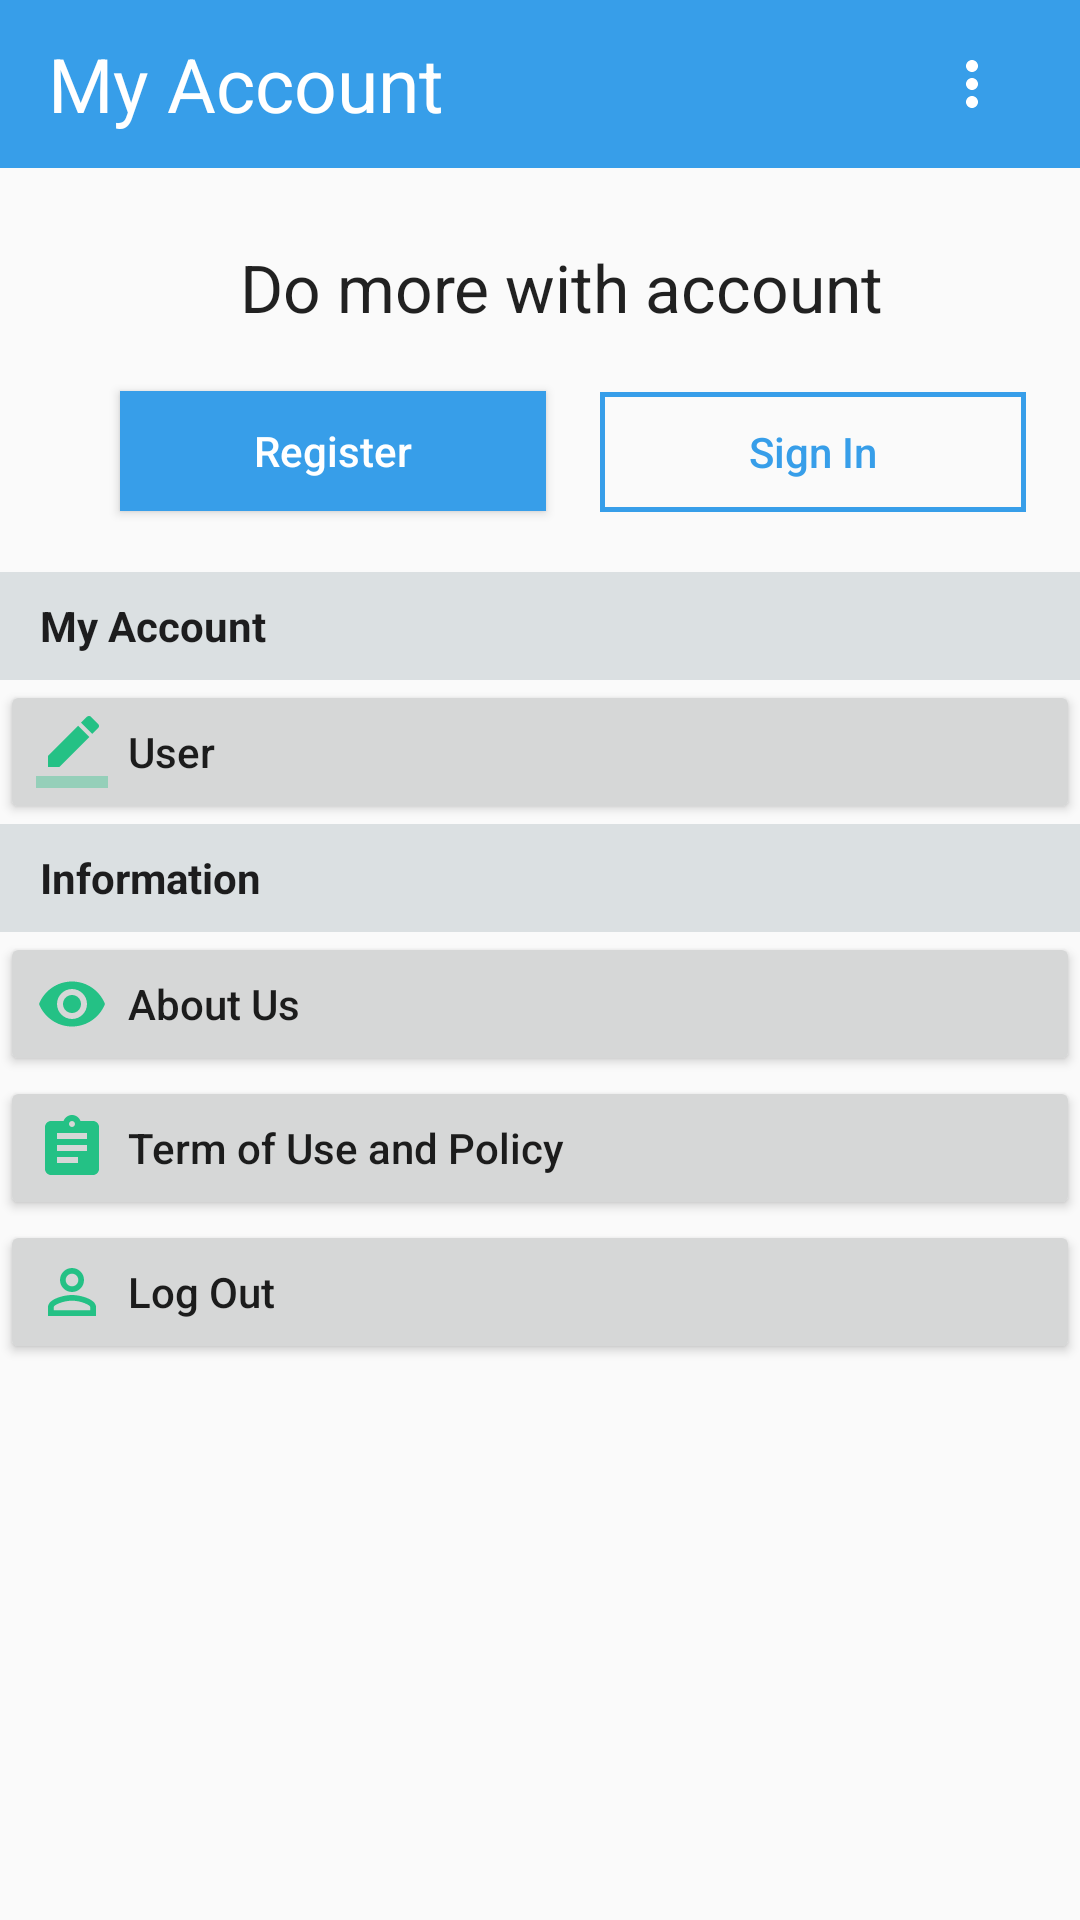

Icons on this 1080×1920 Android screen, each with the point to tap as (x,y):
more vert: (972,84)
